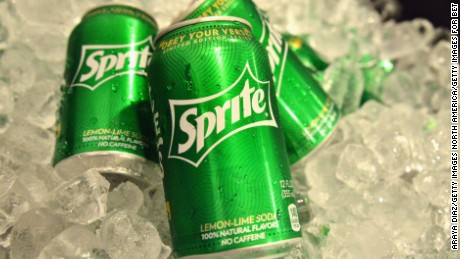Sprite: (145, 34, 303, 255), (56, 9, 158, 182)
